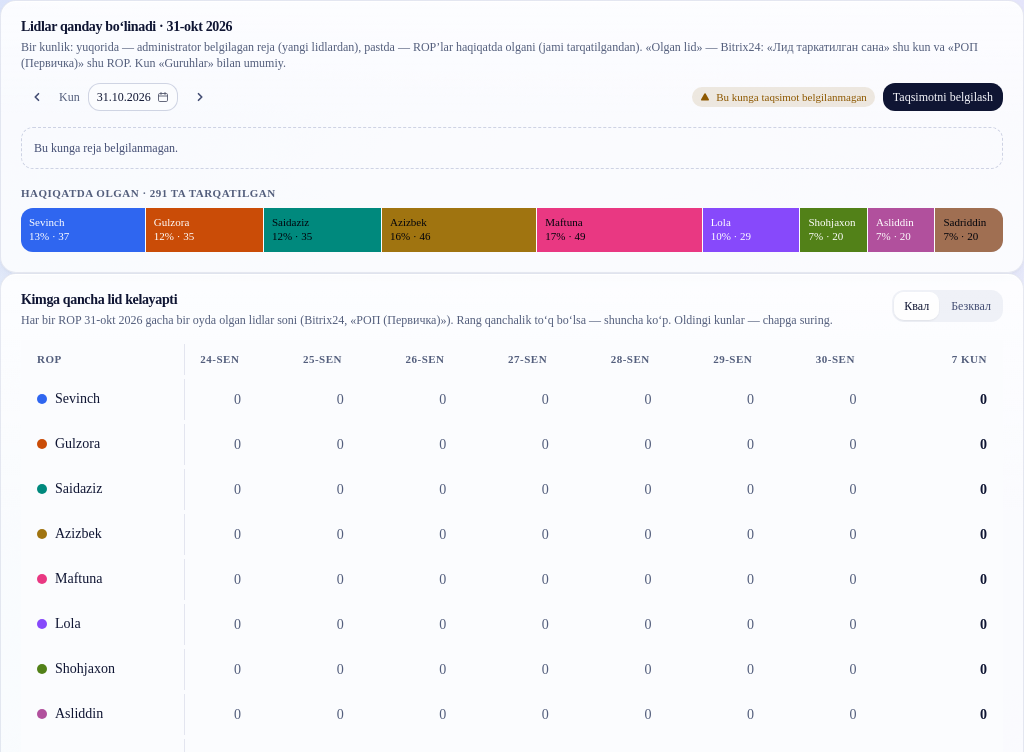
Test: LeadSplitCards › refuses a percent finer than a basis point
Expected: the text "Sevinch" is shown, [29,216,64,228]
Step 1. Click the button "Taqsimotni belgilash" → (943, 97), box [883,83,1003,111]
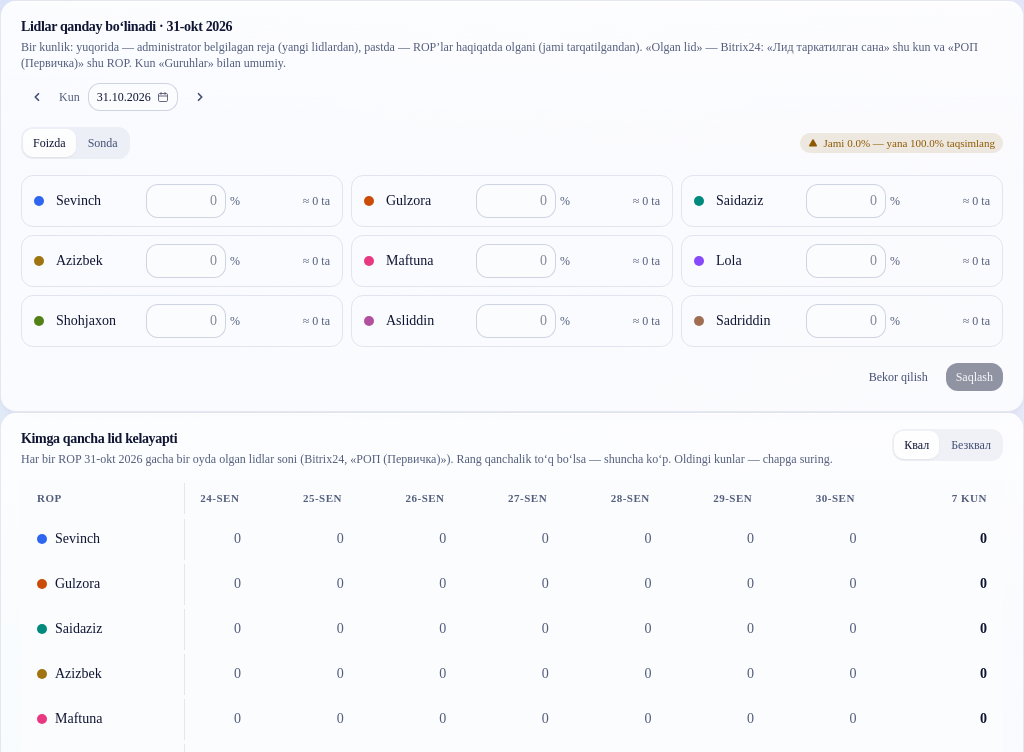
Step 2. Type "12.345" into the field labelled "Sevinch" → (186, 201), box [146,184,226,218]
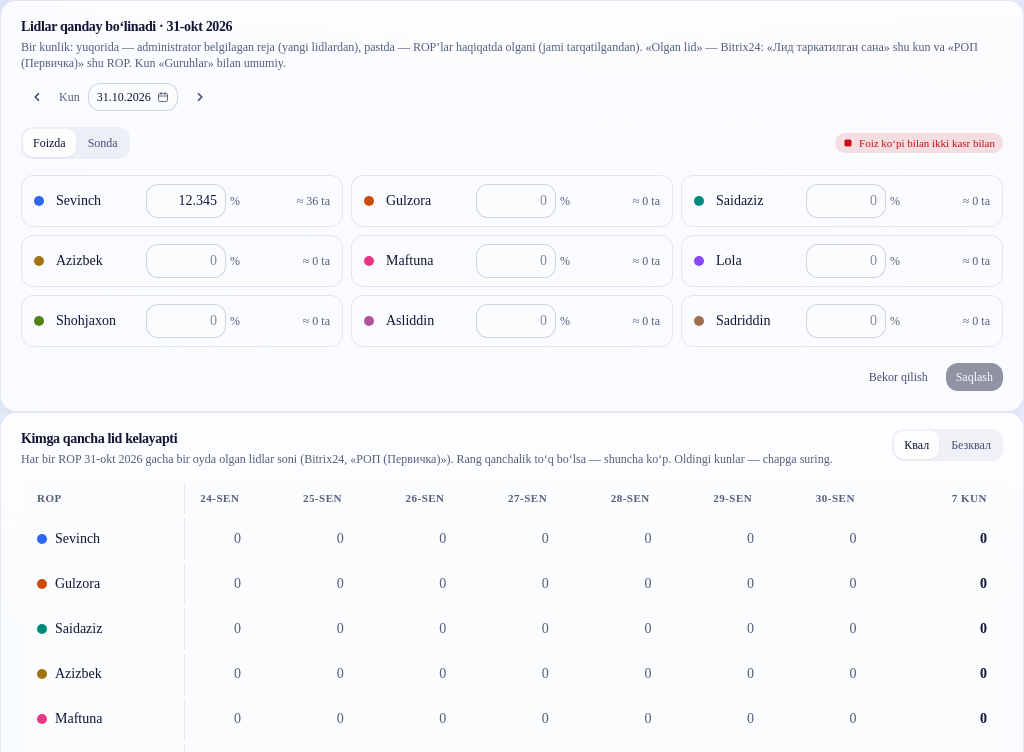
Expected: the text "Foiz koʻpi bilan ikki kasr bilan" is shown, [835,133,1003,153]
